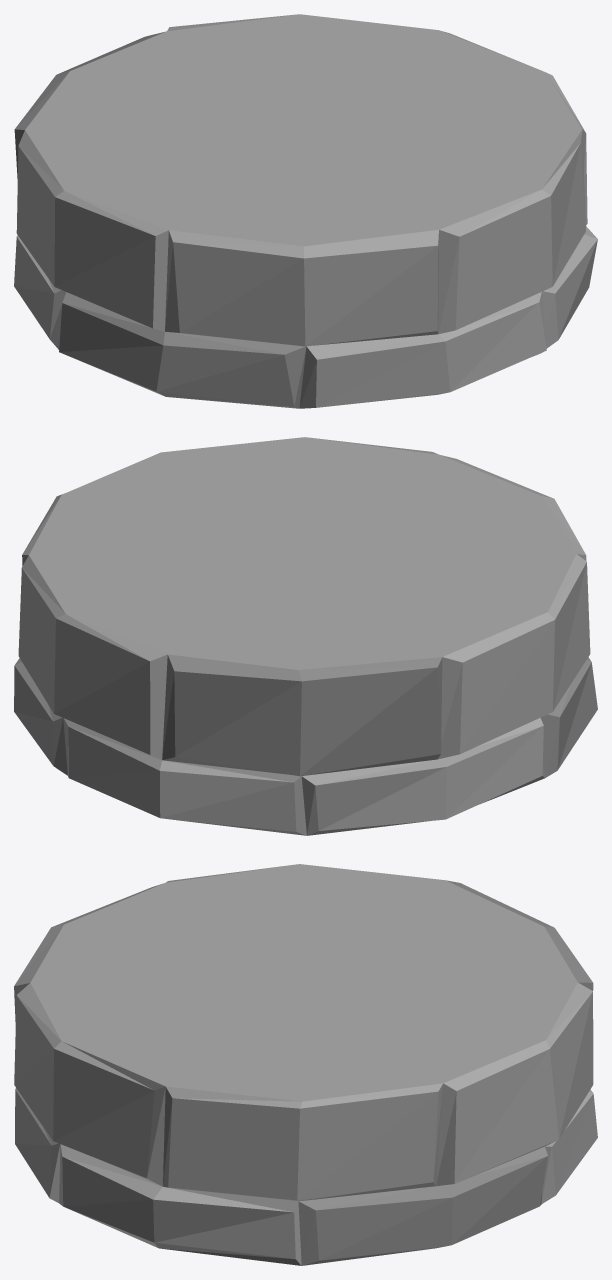
Rendered from _TOWER_4_BLOCK_01.fbx.
3 views of the same model, one above another, from view 1: azimuth 30°, elevation 25°; view 2: azimuth 150°, elevation 25°; view 3: azimuth 270°, elevation 25° (orthographic).
Parts seen in each view (by area): view 1: TOWER_4_BLOCK_01; view 2: TOWER_4_BLOCK_01; view 3: TOWER_4_BLOCK_01.
Part boxes in pixels (left/top/right/bottom): TOWER_4_BLOCK_01: left=14, top=14, right=597, bottom=408; TOWER_4_BLOCK_01: left=14, top=437, right=597, bottom=835; TOWER_4_BLOCK_01: left=14, top=864, right=597, bottom=1265.
Size of the model in its own units: 523 by 163 by 527.
